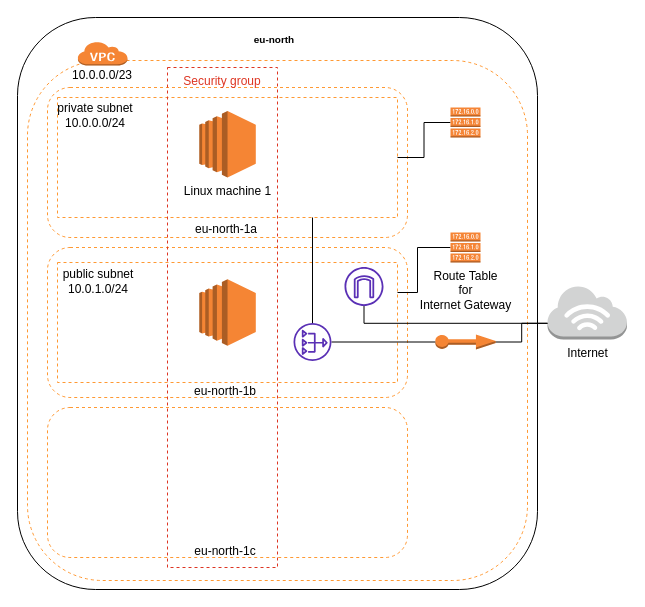
This 645x607 diagram has some shape labels left out. Each missing label, with the centre of its shape:
"Elastic IP for NAT Gateway" belongs at point (465, 342).
"Internet Gateway" belongs at point (363, 286).
"Linux machine 2" belongs at point (227, 312).
"NAT Gateway" belongs at point (312, 341).
"Route Table for NAT Gateway" belongs at point (465, 122).
